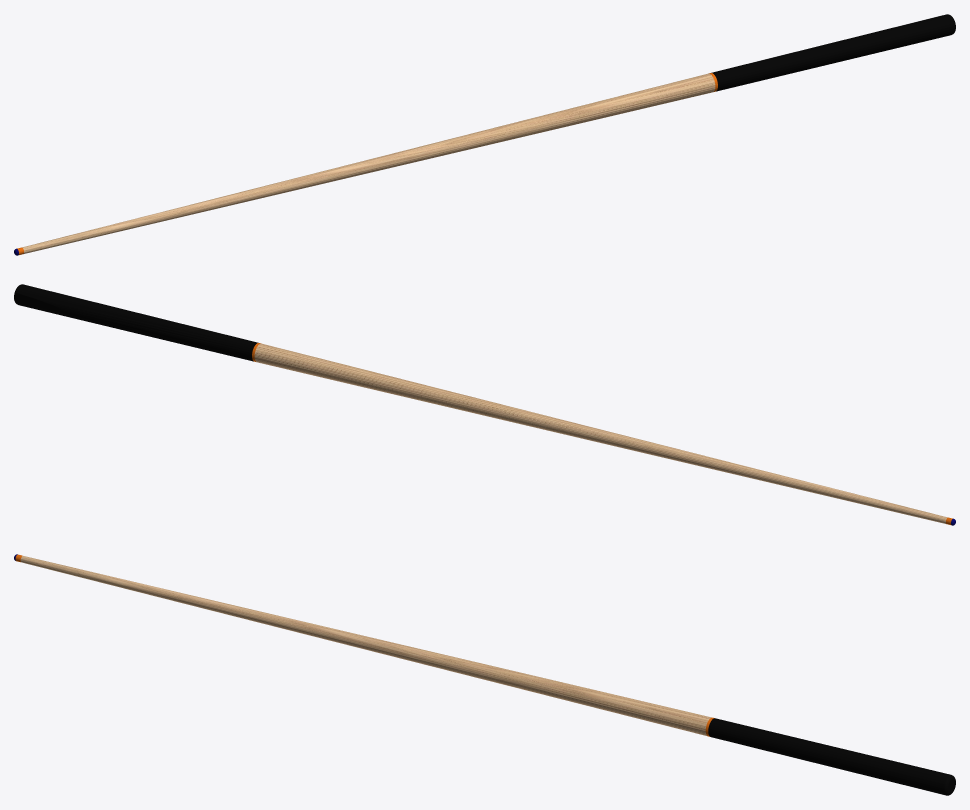
Rendered from cue.glb.
The picture shows the model from 3 angles, top to bottom: view 1: azimuth 30°, elevation 25°; view 2: azimuth 150°, elevation 25°; view 3: azimuth 330°, elevation 25°; orthographic projection.
Parts seen in each view (by area): view 1: cue_shaft, cue_handle; view 2: cue_shaft, cue_handle; view 3: cue_shaft, cue_handle.
Part boxes in pixels (box(x1,y1,x2,y2)): cue_shaft: box(22, 73, 715, 253); cue_handle: box(711, 14, 955, 91); cue_shaft: box(254, 343, 947, 523); cue_handle: box(14, 284, 258, 361); cue_shaft: box(20, 556, 711, 736); cue_handle: box(708, 718, 955, 795).
Size of the model in its own units: 1.47 by 0.0289 by 0.0287.
4 materials, 1 textured.
